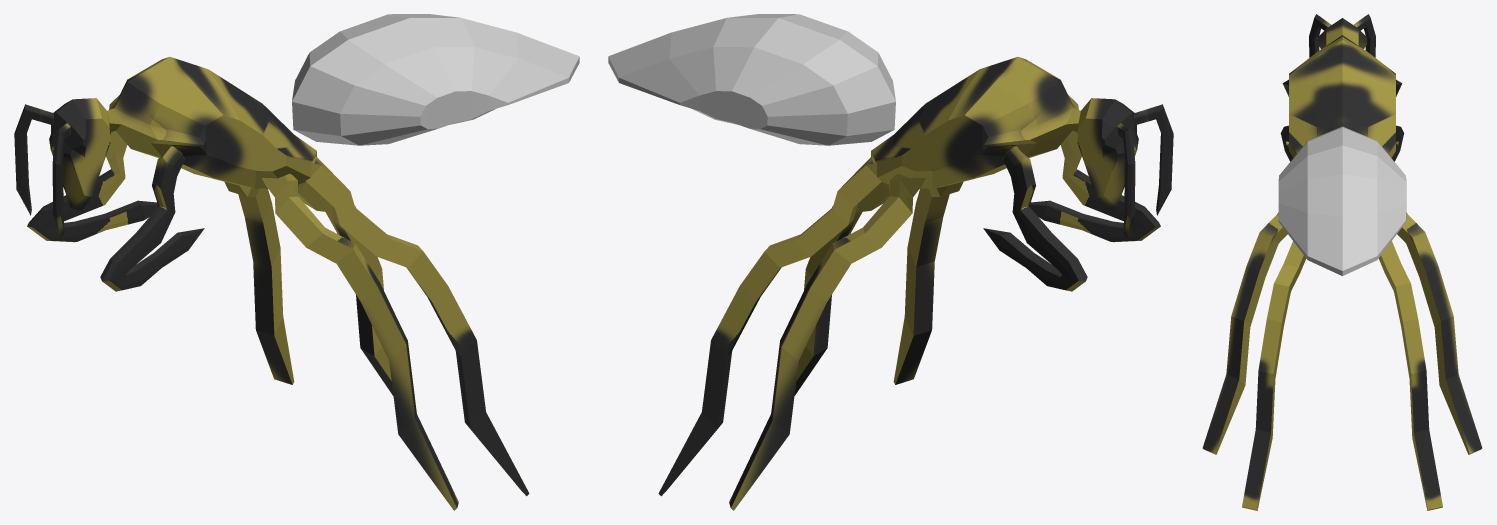
The model's file is wasp.fbx.
The picture shows the model from 3 angles, left to right: view 1: azimuth 30°, elevation 25°; view 2: azimuth 150°, elevation 25°; view 3: azimuth 270°, elevation 25°; orthographic projection. The views are drawn at different scales.
Parts seen in each view (by area): view 1: Cube.004, Cube.003; view 2: Cube.004, Cube.003; view 3: Cube.004, Cube.003.
Part boxes in pixels (x1,y1,x2,y2): Cube.004: [14, 57, 529, 510]; Cube.003: [292, 14, 579, 145]; Cube.004: [658, 57, 1173, 510]; Cube.003: [608, 14, 895, 145]; Cube.004: [1202, 14, 1482, 510]; Cube.003: [1278, 126, 1406, 275].
Bounding box in the file's own units: 154 × 125 × 88.54.
